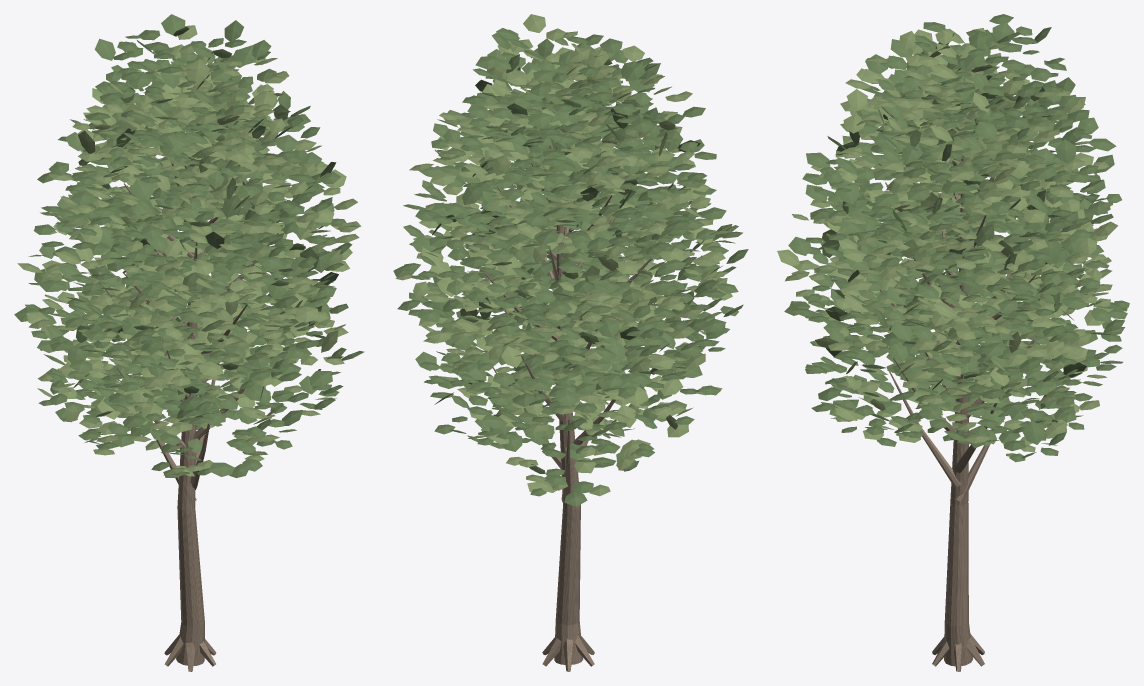
File: Tree4.fbx
3 renders of one model, left to right at view 1: azimuth 30°, elevation 25°; view 2: azimuth 150°, elevation 25°; view 3: azimuth 270°, elevation 25°, orthographic.
Parts seen in each view (by area): view 1: Tree4_LOD0; view 2: Tree4_LOD0; view 3: Tree4_LOD0.
Part boxes in pixels (x1,y1,x2,y2): Tree4_LOD0: (14,14,364,671); Tree4_LOD0: (393,14,748,671); Tree4_LOD0: (777,14,1129,671).
Size of what is drawn, in the model's own units: 415 by 812 by 409.
1 material, 1 textured.
